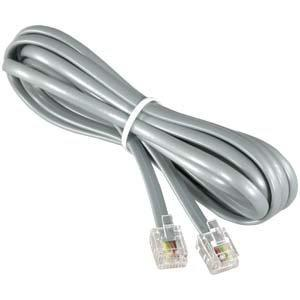cable: (1, 25, 300, 277)
